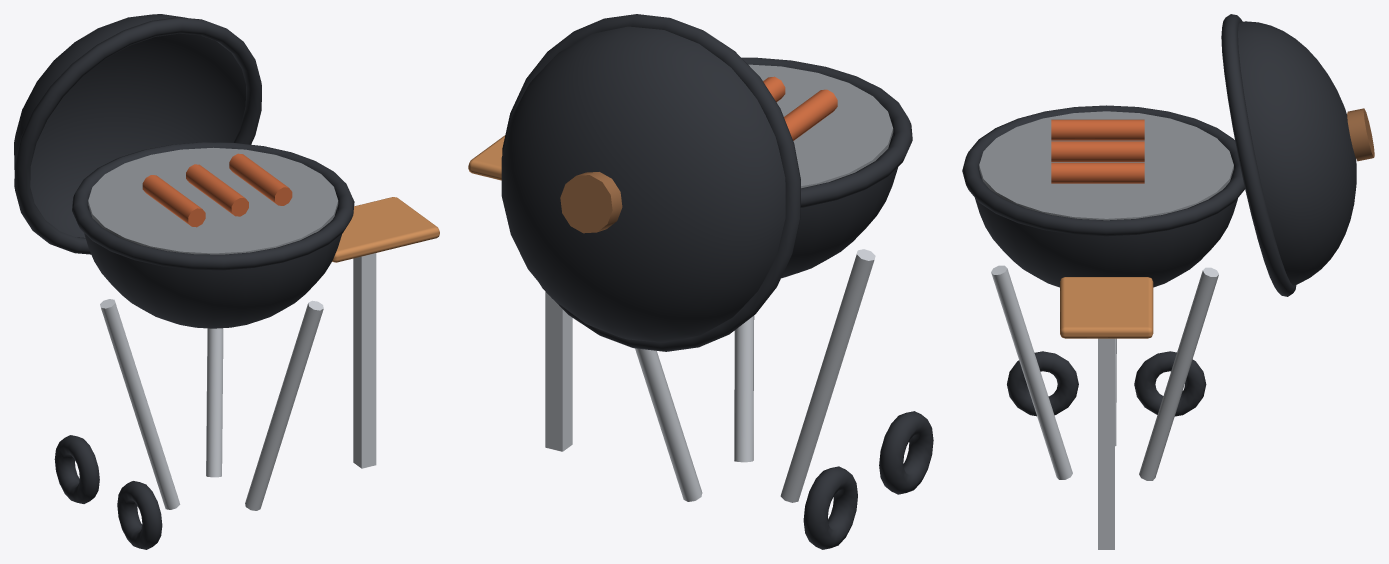
Rendered from grill-kettle.glb.
The picture shows the model from 3 angles, left to right: view 1: azimuth 30°, elevation 25°; view 2: azimuth 150°, elevation 25°; view 3: azimuth 270°, elevation 25°; orthographic projection. The views are drawn at different scales.
Bounding box in the file's own units: 0.91 × 1.15 × 0.9717.
